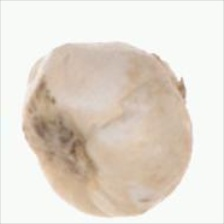L3: (143, 50, 188, 107)
L4: (21, 41, 193, 217)
